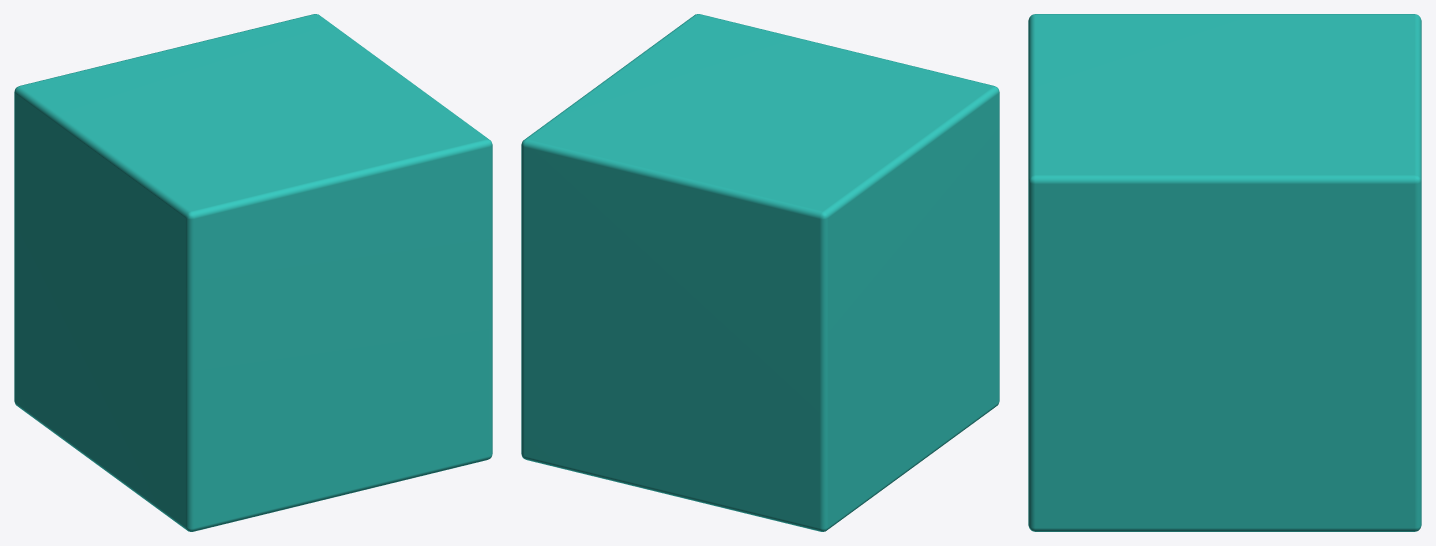
File: cube-quality.glb
The picture shows the model from 3 angles, left to right: view 1: azimuth 30°, elevation 25°; view 2: azimuth 150°, elevation 25°; view 3: azimuth 270°, elevation 25°; orthographic projection. The views are drawn at different scales.
Visible parts, largest first — view 1: Cube; view 2: Cube; view 3: Cube.
Boxes of the visible parts, x1=… form: Cube: x1=14, y1=14, x2=492, y2=531; Cube: x1=521, y1=14, x2=999, y2=531; Cube: x1=1028, y1=14, x2=1421, y2=531.
Size of the model in its own units: 1.4 by 1.4 by 1.4.
